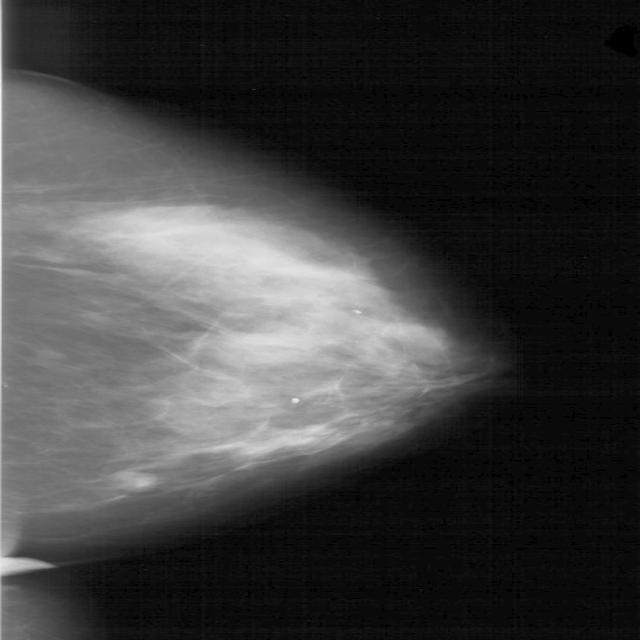tumour: (108, 472, 154, 492)
